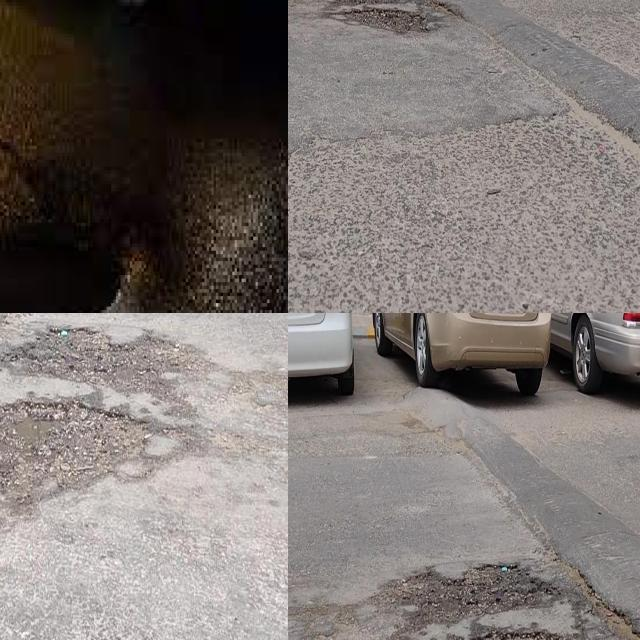Pothole: (0, 399, 144, 503), (23, 324, 188, 395), (395, 561, 537, 622), (324, 0, 429, 35)
